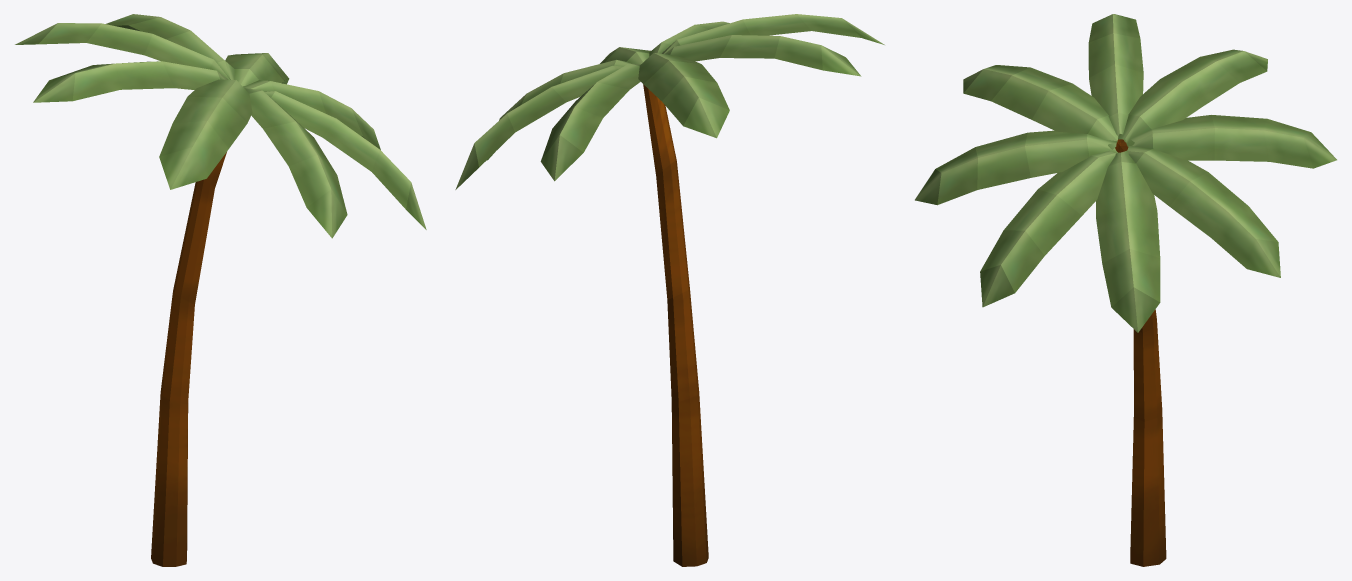
The model's file is Palm_01.fbx.
3 views of the same model, side by side, from view 1: azimuth 30°, elevation 25°; view 2: azimuth 150°, elevation 25°; view 3: azimuth 270°, elevation 25° (orthographic). The views are drawn at different scales.
Visible parts, largest first — view 1: Palm_01; view 2: Palm_01; view 3: Palm_01.
Part boxes in pixels (x1,y1,x2,y2): Palm_01: (15, 14, 426, 566); Palm_01: (455, 14, 884, 566); Palm_01: (915, 14, 1336, 566).
Bounding box in the file's own units: 393 × 547 × 424.
2 materials, 2 textured.
